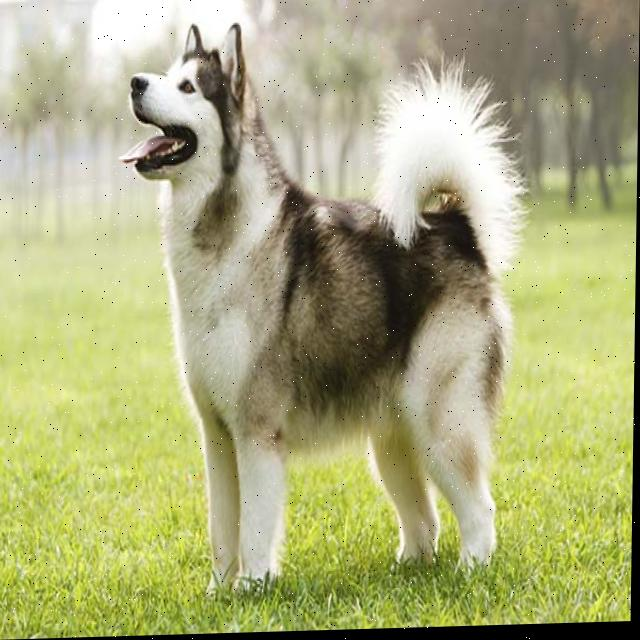ALASKAN_MALAMUTE: (98, 0, 534, 601)
